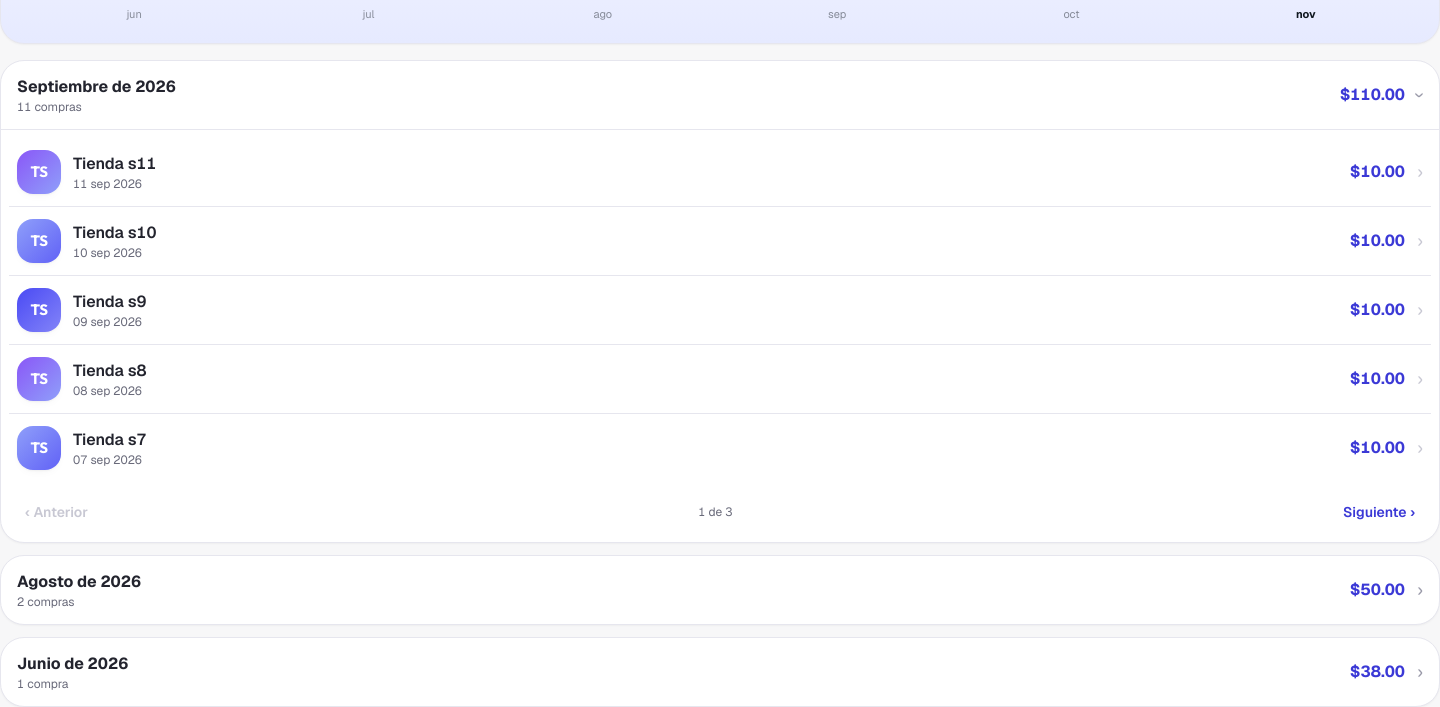
Test: TripsScopedList — por meses › cerrar y volver a abrir un mes recuerda la página
(page scrolled)
Click the button "Siguiente ›" at (1379, 512), box top-left (1331, 490), bottom-right (1427, 534)
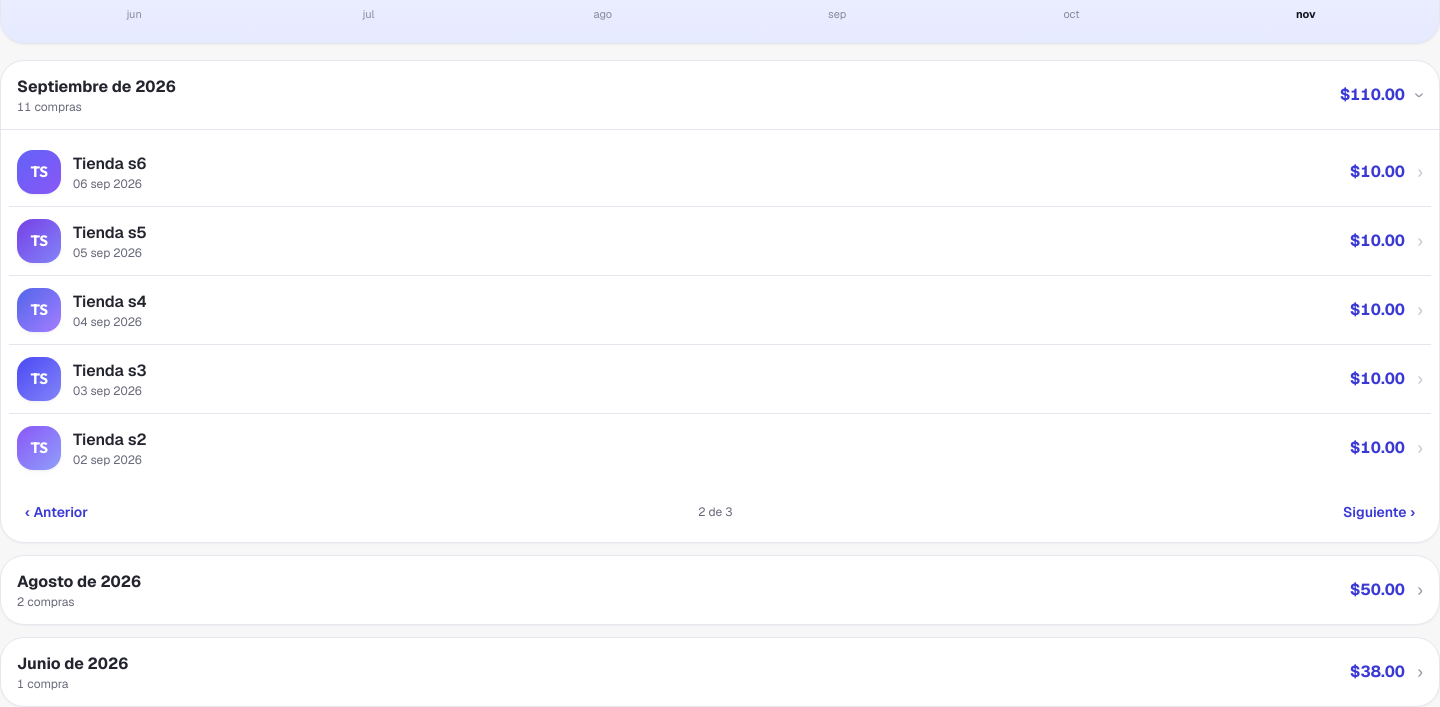
Click the button "Septiembre de 2026 11 compras $110.00 ›" at (96, 86), box top-left (1, 61), bottom-right (1439, 129)
(page scrolled)
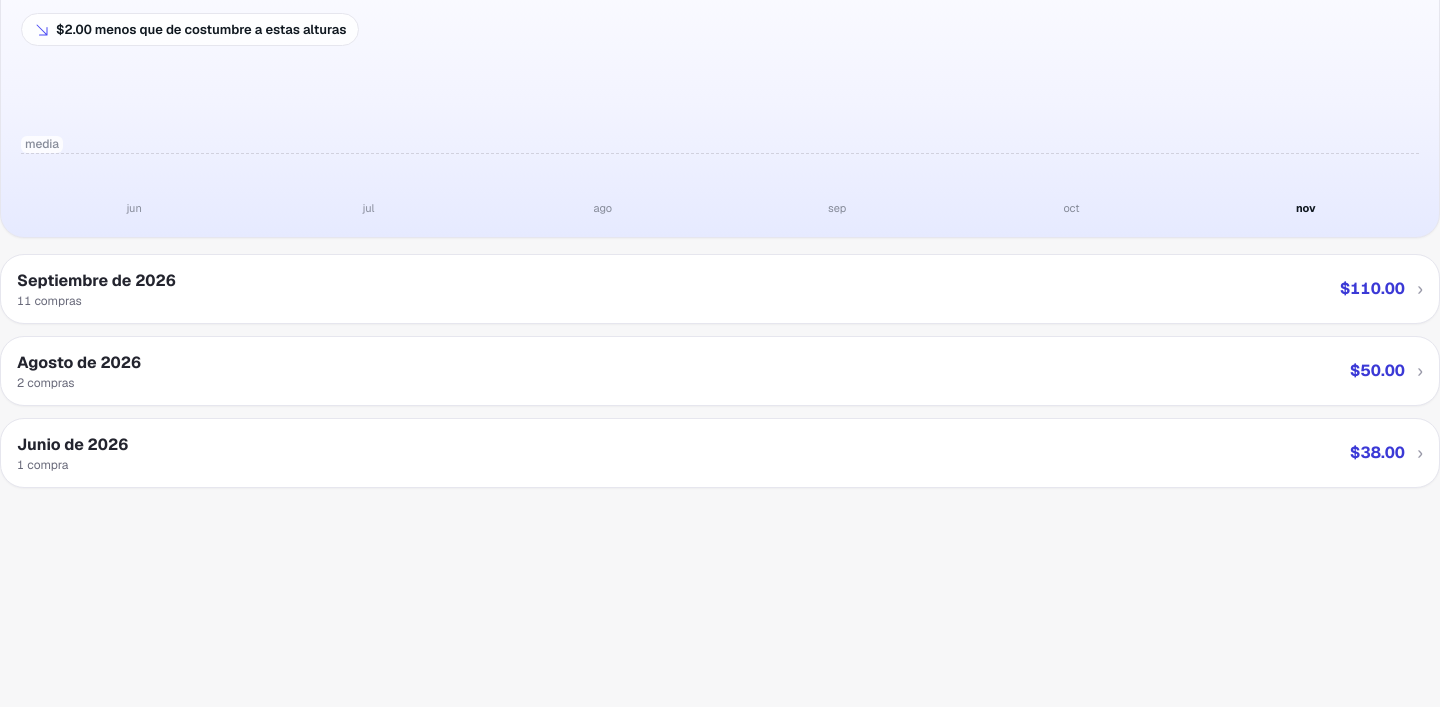
Click the button "Septiembre de 2026 11 compras $110.00 ›" at (96, 280), box top-left (1, 255), bottom-right (1439, 323)
(page scrolled)
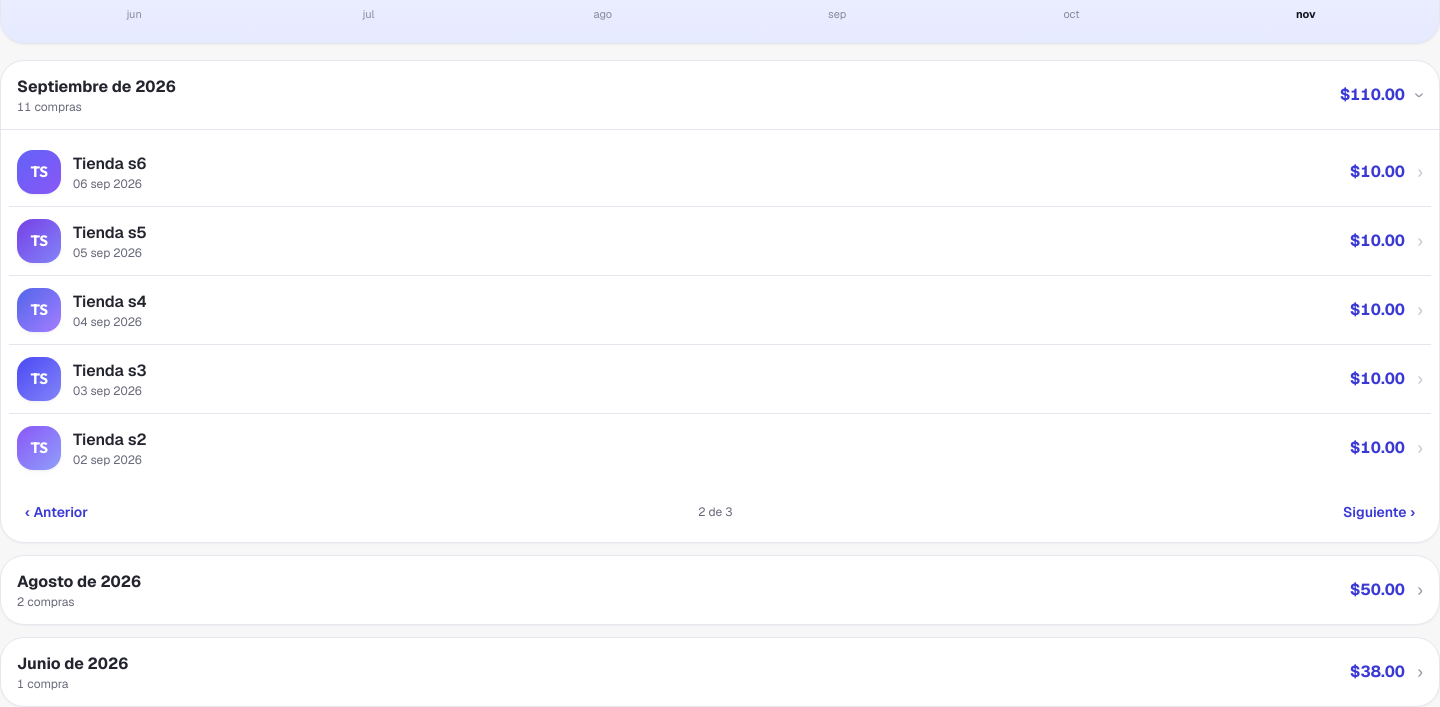
Expected: the text "2 de 3" is shown, top-left (698, 504), bottom-right (732, 520)
